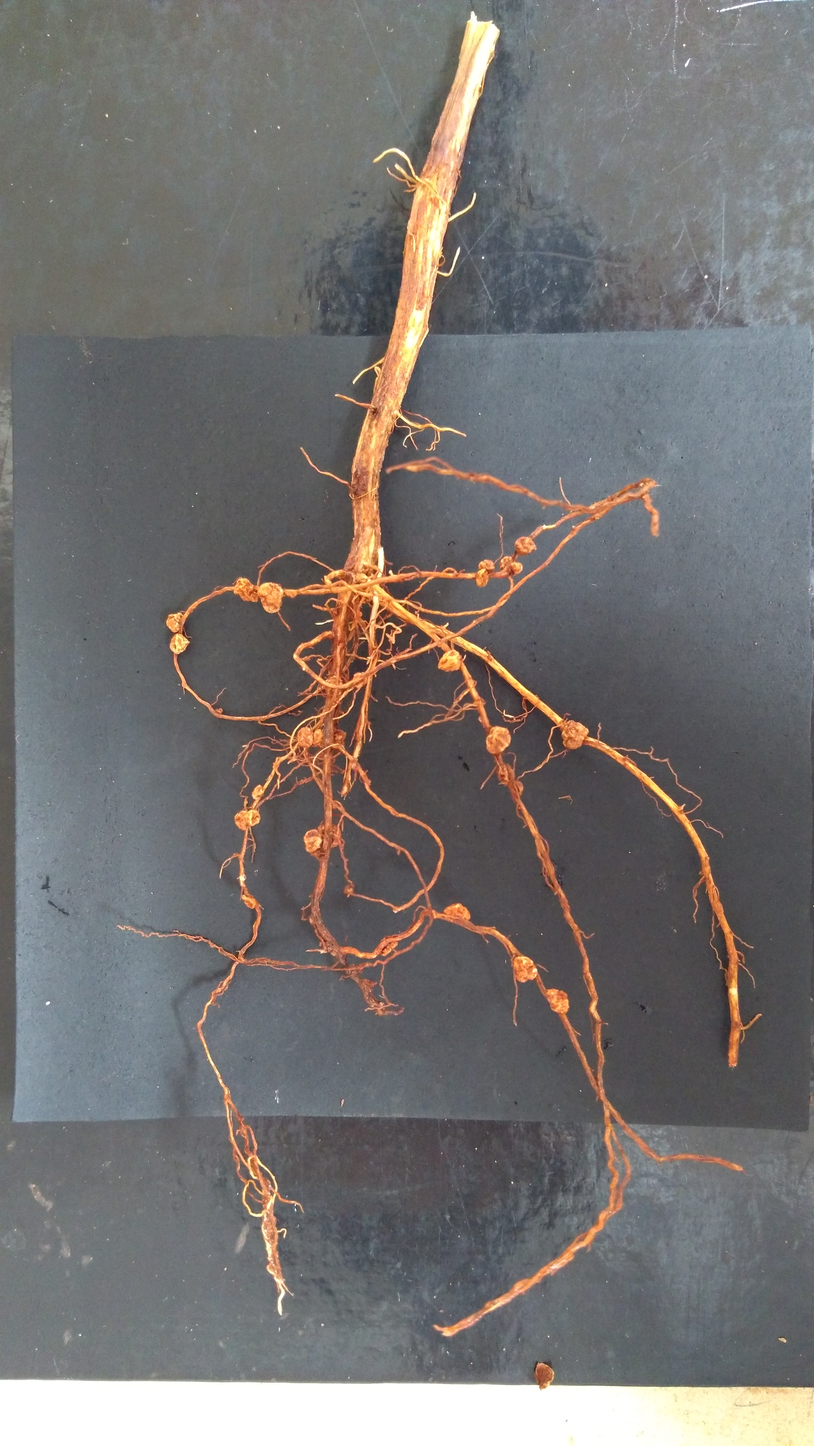nodule: (560, 719, 589, 750), (257, 582, 284, 614), (485, 725, 512, 754), (232, 577, 259, 604), (512, 955, 538, 983), (318, 821, 342, 849), (533, 1361, 555, 1391), (546, 988, 570, 1015), (437, 649, 462, 672), (355, 573, 374, 603), (443, 902, 471, 922), (498, 555, 523, 576), (514, 536, 537, 556), (169, 633, 190, 654), (379, 935, 399, 957), (304, 829, 323, 852), (325, 674, 343, 697), (296, 726, 313, 749), (166, 612, 183, 633), (233, 810, 248, 831), (476, 568, 490, 588), (332, 728, 346, 748), (353, 672, 368, 689), (245, 809, 260, 826), (241, 893, 256, 910), (478, 559, 495, 573), (312, 729, 323, 748), (353, 562, 371, 573), (252, 784, 263, 800), (512, 780, 523, 796), (284, 588, 299, 599), (343, 884, 354, 896), (330, 607, 338, 616), (358, 611, 363, 617)
